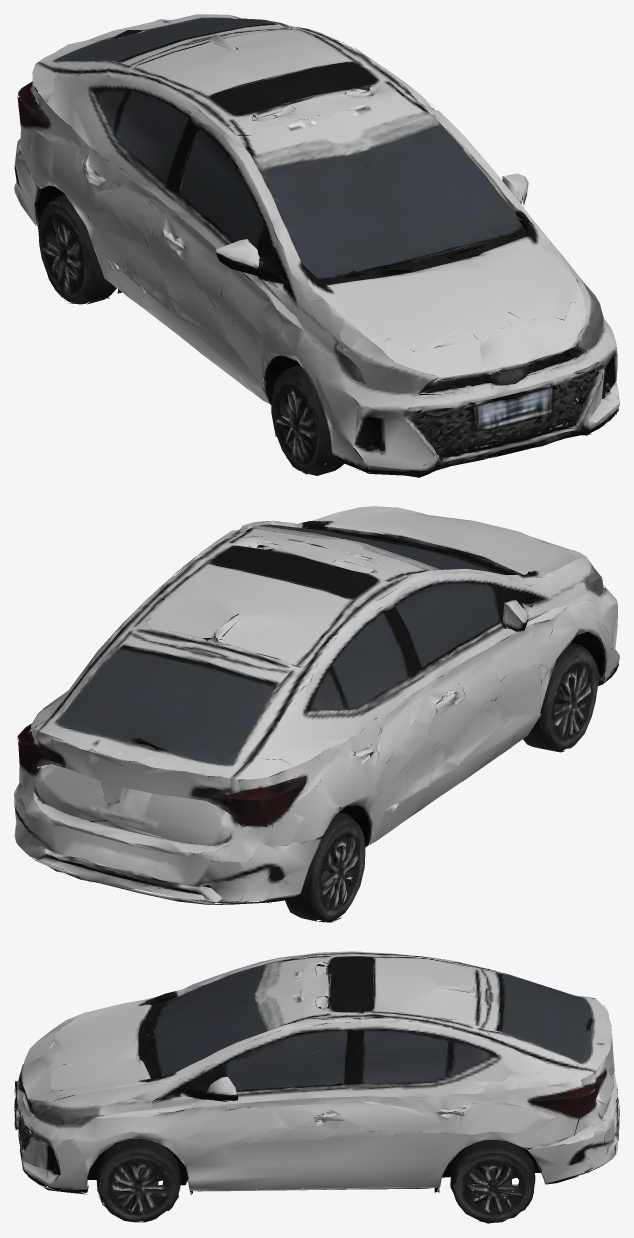
File: vehiculo2.opt.glb
3 views of the same model, one above another, from view 1: azimuth 30°, elevation 25°; view 2: azimuth 150°, elevation 25°; view 3: azimuth 270°, elevation 25° (orthographic). The views are drawn at different scales.
Visible parts, largest first — view 1: geometry_0; view 2: geometry_0; view 3: geometry_0.
Part boxes in pixels (x1,y1,x2,y2): geometry_0: (14, 14, 619, 477); geometry_0: (14, 506, 619, 922); geometry_0: (14, 951, 619, 1223).
Bounding box in the file's own units: 0.4492 × 0.3504 × 1.
Materials: 1 (1 with a texture image).
